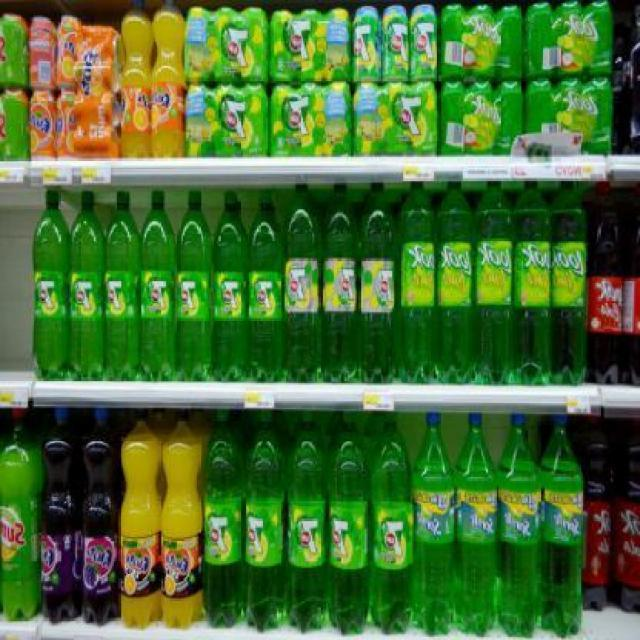Drinks: (538, 413, 586, 636), (497, 412, 541, 638), (453, 411, 497, 637), (328, 412, 371, 636), (285, 411, 328, 634), (412, 411, 454, 637), (372, 410, 414, 636), (119, 408, 162, 628), (161, 410, 204, 628), (203, 410, 246, 628), (39, 407, 82, 624), (245, 410, 283, 633), (81, 408, 119, 626), (358, 183, 396, 385), (321, 184, 358, 382), (285, 182, 321, 384), (248, 185, 284, 383), (139, 191, 176, 382), (103, 191, 140, 382), (67, 191, 104, 382), (32, 190, 69, 381), (212, 191, 249, 382), (176, 191, 212, 383), (183, 6, 271, 83), (353, 82, 437, 156), (185, 83, 269, 157), (270, 7, 352, 81), (270, 83, 353, 155), (119, 0, 153, 157), (151, 1, 183, 158), (409, 5, 440, 83), (380, 5, 409, 82), (352, 5, 381, 81), (29, 89, 57, 160)
